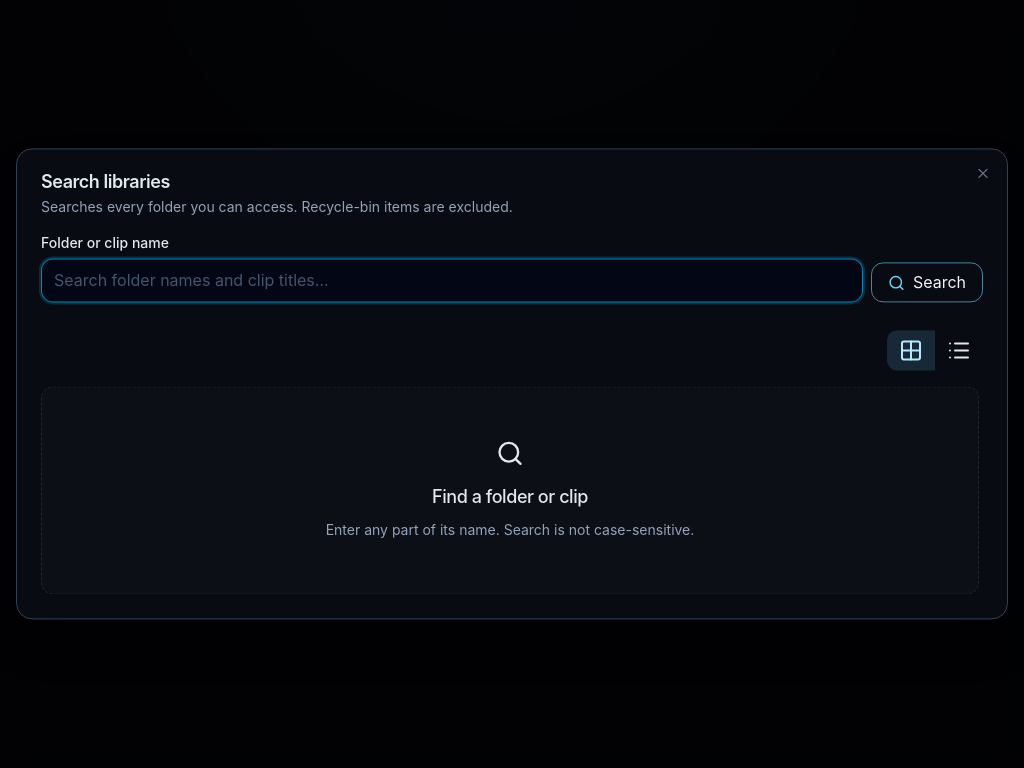
Scenario: SearchDialog › uses a labelled Field and validates blank searches without a request
The width and height of the screenshot is (1024, 768).
Expected: the field labelled "Folder or clip name" is shown, [41, 259, 863, 303]
Click the button "Search" at (927, 283), box [871, 263, 983, 303]
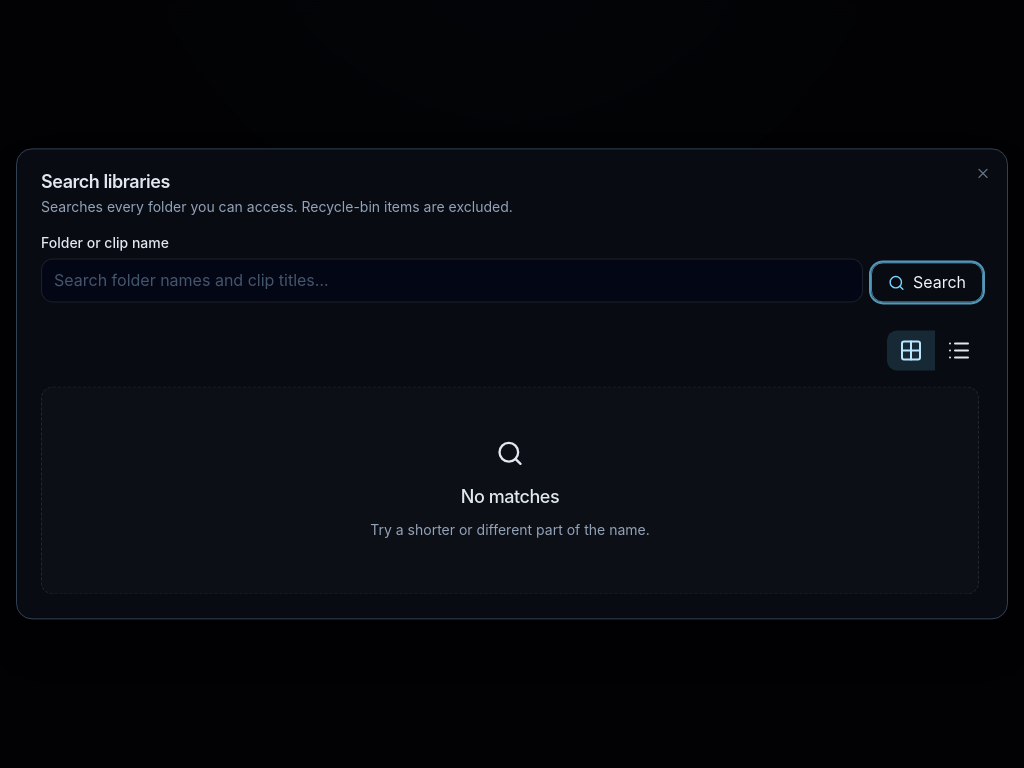
Now the text "No matches" is shown, box [461, 483, 559, 511]
